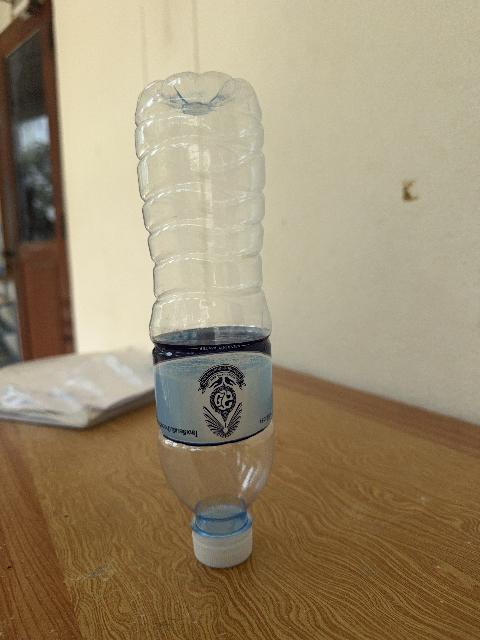bottle: (136, 73, 274, 567)
